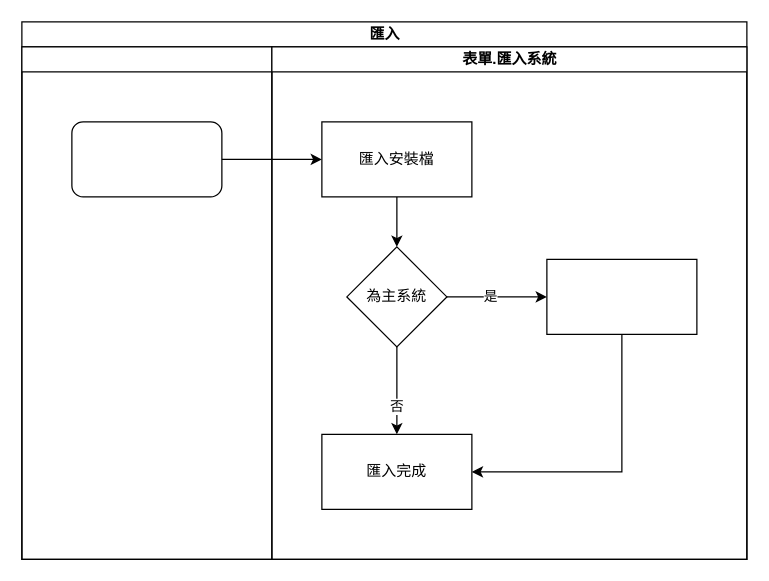
Image size: 769x581. Some labels were removed from this diagram. Here are the shapes that lost their labels. From the top down, the box of each, then its label:
(71, 121, 222, 197): 點擊按鈕.匯入
(21, 46, 272, 559): Site管理員
(546, 258, 697, 334): 系統名稱 / 帳務名稱 各語系比對異動
